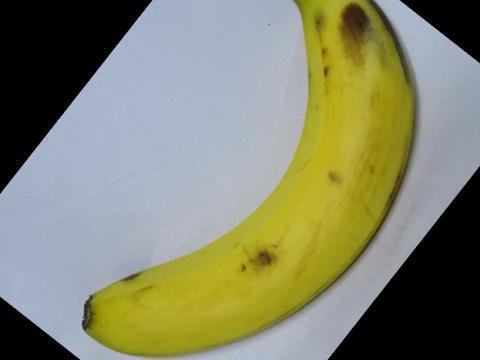freshripe: (82, 0, 432, 359)
